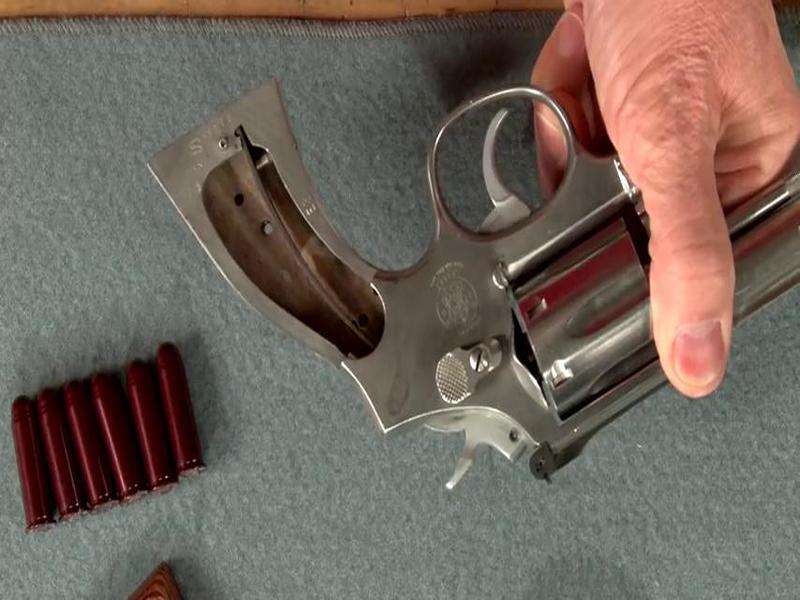Revolver: (150, 78, 800, 474)
